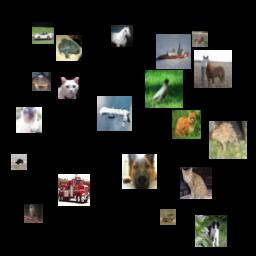airplane: (97, 96, 132, 131)
automobile: (32, 22, 54, 44)
bird: (145, 70, 183, 108), (24, 204, 43, 223), (11, 154, 27, 170)
cat: (195, 215, 227, 247), (180, 167, 212, 199), (172, 110, 201, 139), (16, 107, 42, 133), (58, 77, 80, 99)
deer: (160, 209, 176, 225), (192, 31, 208, 47)
dog: (122, 154, 157, 189)
frog: (209, 121, 247, 159), (56, 35, 82, 61), (32, 72, 51, 91)
ship: (156, 34, 191, 69)
truck: (58, 174, 90, 206)
